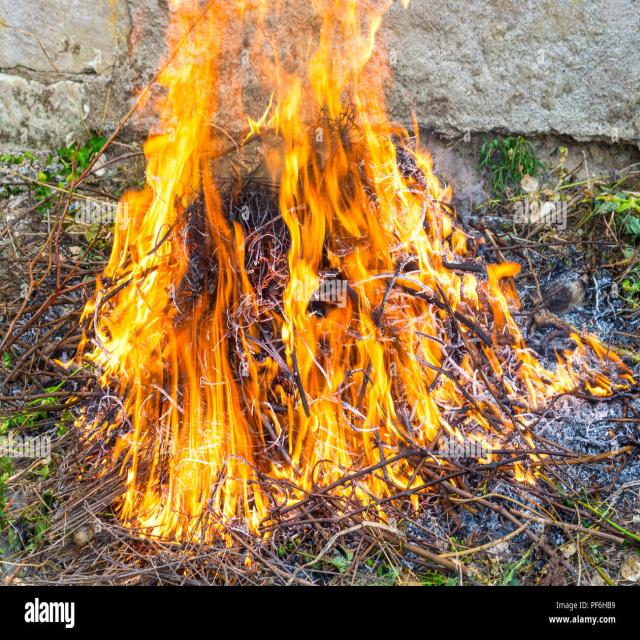fire: (269, 273, 634, 512), (79, 274, 269, 542), (246, 0, 418, 156), (264, 156, 477, 275), (144, 0, 228, 190), (104, 188, 248, 276)
